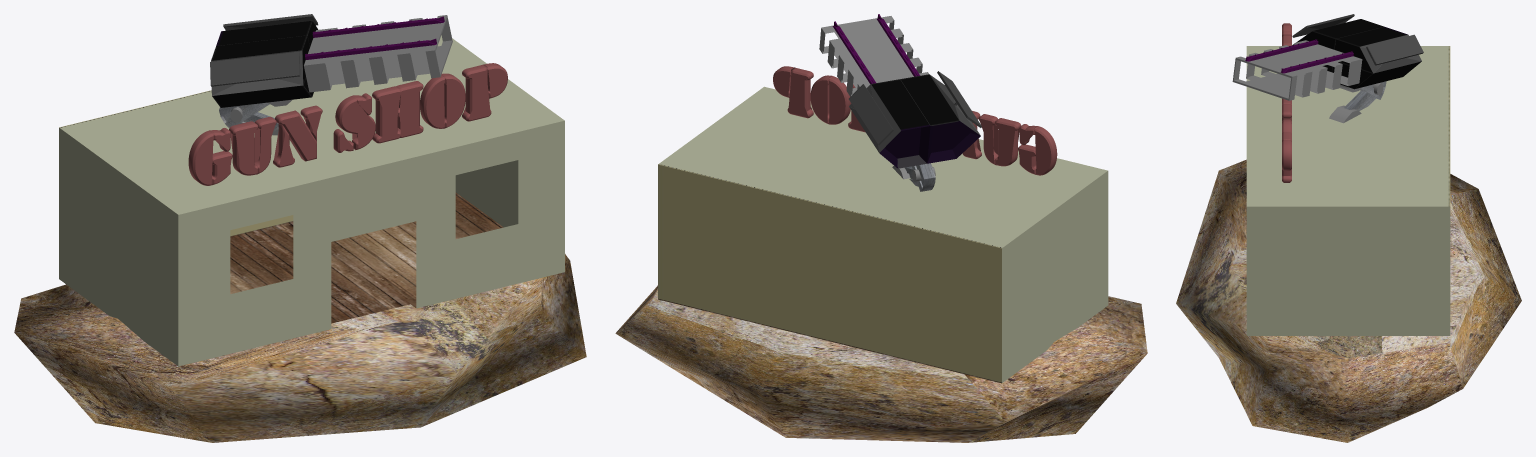
Rendered from GunShop.fbx.
The picture shows the model from 3 angles, left to right: view 1: azimuth 30°, elevation 25°; view 2: azimuth 150°, elevation 25°; view 3: azimuth 270°, elevation 25°; orthographic projection. The views are drawn at different scales.
Parts seen in each view (by area): view 1: polySurface318; view 2: polySurface318; view 3: polySurface318.
Boxes of the visible parts, bbox=[...] form: polySurface318: bbox=[14, 14, 586, 442]; polySurface318: bbox=[615, 14, 1147, 442]; polySurface318: bbox=[1176, 14, 1521, 442].
Bounding box in the file's own units: 30.17 × 20.39 × 19.16.
8 materials, 5 textured.
